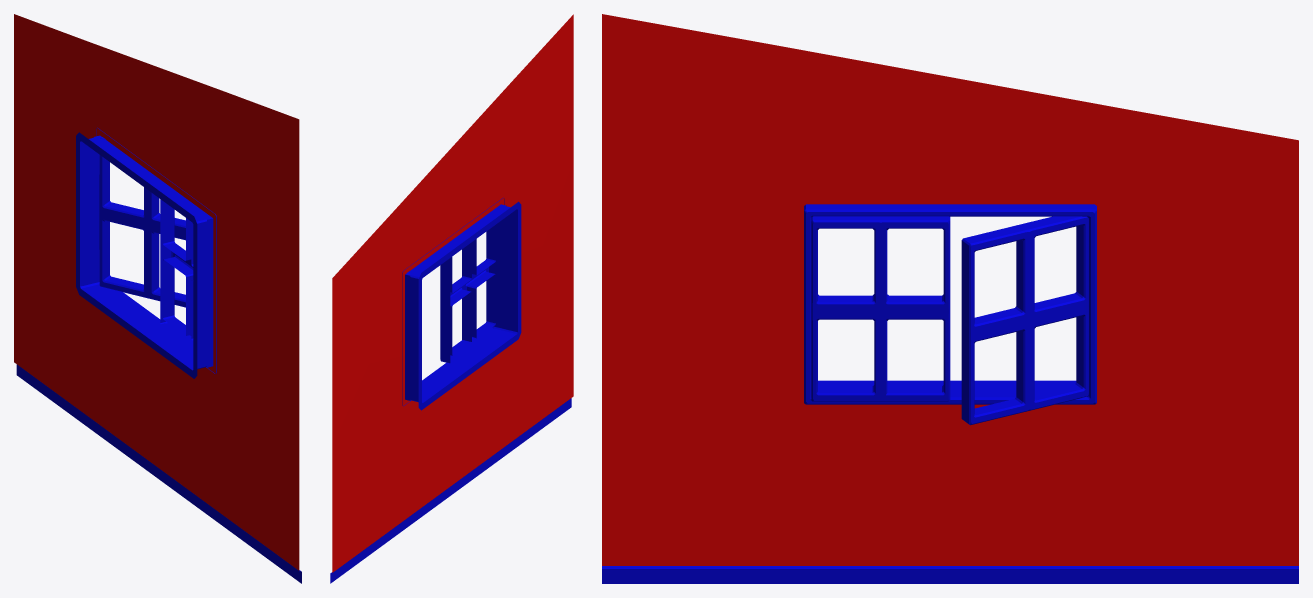
File: Kitchen_LeftWall.fbx
3 renders of one model, left to right at view 1: azimuth 30°, elevation 25°; view 2: azimuth 150°, elevation 25°; view 3: azimuth 270°, elevation 25°, orthographic. The views are drawn at different scales.
Parts seen in each view (by area): view 1: SM_LeftWall, SM_WindowTall1, SM_WindowTall; view 2: SM_LeftWall, SM_WindowTall; view 3: SM_LeftWall, SM_WindowTall1, SM_WindowTall.
Part boxes in pixels (x1,y1,x2,y2): SM_LeftWall: (14, 14, 301, 583); SM_WindowTall1: (99, 137, 185, 307); SM_WindowTall: (160, 199, 193, 343); SM_LeftWall: (330, 14, 573, 583); SM_WindowTall: (440, 225, 495, 363); SM_LeftWall: (602, 14, 1298, 583); SM_WindowTall1: (961, 216, 1088, 425); SM_WindowTall: (811, 216, 950, 401).
Size of the model in its own units: 76.09 by 450 by 500.
